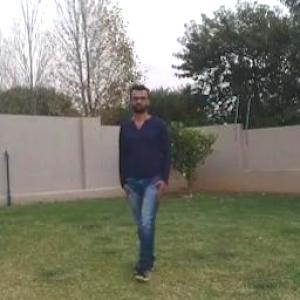follow: (122, 85, 166, 264)
